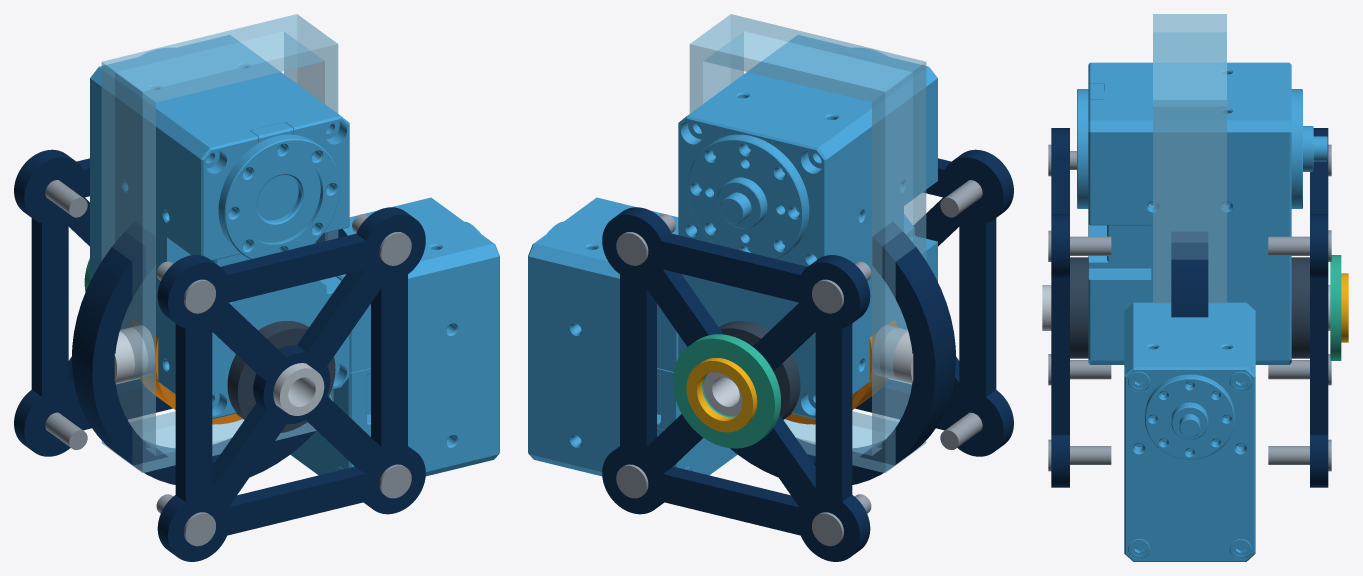
File: JMF-03-SHOULDER-GIMBAL_assembly.glb
3 renders of one model, left to right at view 1: azimuth 30°, elevation 25°; view 2: azimuth 150°, elevation 25°; view 3: azimuth 270°, elevation 25°, orthographic. The views are drawn at different scales.
Visible parts, largest first — view 1: ACTUATOR, CARRIER_A, TRANSMISSION_GUARD, ROLL_ACTUATOR, CARRIER_B, GIMBAL_RING, BEARING_A, OUTPUT_SHAFT, ROLL_SHAFT, CARRIER_A_SCREW_21, CARRIER_A_SCREW_12, CARRIER_A_SCREW_22 (+4 smaller); view 2: ACTUATOR, CARRIER_B, TRANSMISSION_GUARD, ROLL_ACTUATOR, CARRIER_A, GIMBAL_RING, OUTPUT_ENCODER_CARRIER, OUTPUT_MAGNET_HUB, ROLL_SHAFT, BEARING_B, OUTPUT_SHAFT, CARRIER_B_SCREW_21 (+6 smaller); view 3: ACTUATOR, ROLL_ACTUATOR, TRANSMISSION_GUARD, CARRIER_A, CARRIER_B, GIMBAL_RING, BEARING_A, BEARING_B, OUTPUT_ENCODER_CARRIER, CARRIER_B_SCREW_12, CARRIER_A_SCREW_12, CARRIER_B_SCREW_11 (+5 smaller).
Boxes of the visible parts, left/top/right/bottom form: ACTUATOR: left=90, top=35, right=349, bottom=419; CARRIER_A: left=157, top=207, right=425, bottom=561; TRANSMISSION_GUARD: left=101, top=14, right=338, bottom=472; ROLL_ACTUATOR: left=290, top=197, right=499, bottom=476; CARRIER_B: left=14, top=149, right=172, bottom=456; GIMBAL_RING: left=72, top=222, right=347, bottom=484; BEARING_A: left=227, top=321, right=335, bottom=432; OUTPUT_SHAFT: left=273, top=363, right=324, bottom=415; ROLL_SHAFT: left=114, top=325, right=154, bottom=383; CARRIER_A_SCREW_21: left=156, top=494, right=215, bottom=546; CARRIER_A_SCREW_12: left=352, top=214, right=411, bottom=265; CARRIER_A_SCREW_22: left=156, top=261, right=215, bottom=313; ACTUATOR: left=678, top=35, right=937, bottom=419; CARRIER_B: left=602, top=207, right=870, bottom=561; TRANSMISSION_GUARD: left=689, top=14, right=926, bottom=472; ROLL_ACTUATOR: left=528, top=197, right=737, bottom=476; CARRIER_A: left=855, top=149, right=1013, bottom=456; GIMBAL_RING: left=730, top=222, right=955, bottom=484; OUTPUT_ENCODER_CARRIER: left=672, top=334, right=780, bottom=448; OUTPUT_MAGNET_HUB: left=686, top=358, right=757, bottom=432; ROLL_SHAFT: left=873, top=325, right=913, bottom=383; BEARING_B: left=719, top=321, right=800, bottom=419; OUTPUT_SHAFT: left=703, top=372, right=742, bottom=415; CARRIER_B_SCREW_21: left=812, top=494, right=871, bottom=546; ACTUATOR: left=1077, top=62, right=1327, bottom=364; ROLL_ACTUATOR: left=1124, top=302, right=1255, bottom=561; TRANSMISSION_GUARD: left=1153, top=14, right=1226, bottom=303; CARRIER_A: left=1051, top=128, right=1069, bottom=487; CARRIER_B: left=1310, top=128, right=1328, bottom=487; GIMBAL_RING: left=1171, top=232, right=1208, bottom=317; BEARING_A: left=1070, top=257, right=1088, bottom=358; BEARING_B: left=1291, top=257, right=1309, bottom=358; OUTPUT_ENCODER_CARRIER: left=1330, top=255, right=1341, bottom=360; CARRIER_B_SCREW_12: left=1268, top=230, right=1331, bottom=261; CARRIER_A_SCREW_12: left=1048, top=230, right=1111, bottom=261; CARRIER_B_SCREW_11: left=1268, top=439, right=1331, bottom=471.
Bounding box in the file's own units: 92.69 × 95.25 × 66.4.
